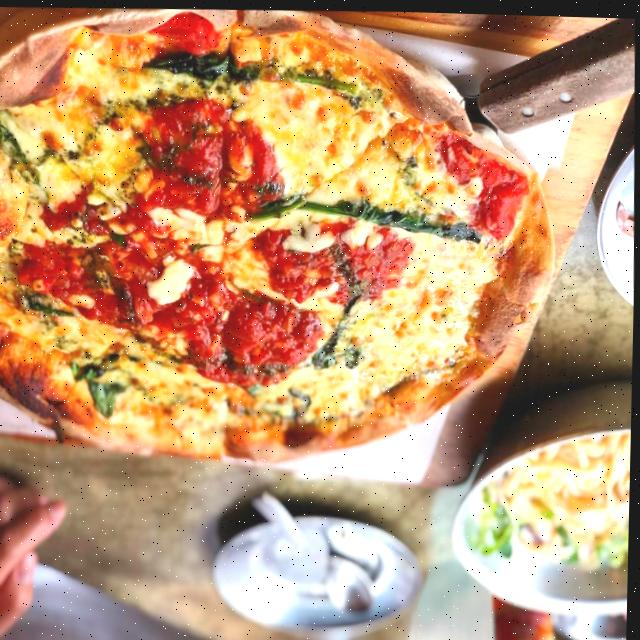basil: (247, 185, 492, 251), (137, 38, 362, 99), (62, 349, 139, 424), (308, 293, 374, 374), (17, 287, 79, 338), (265, 382, 317, 423)
pizza: (0, 0, 562, 471)
